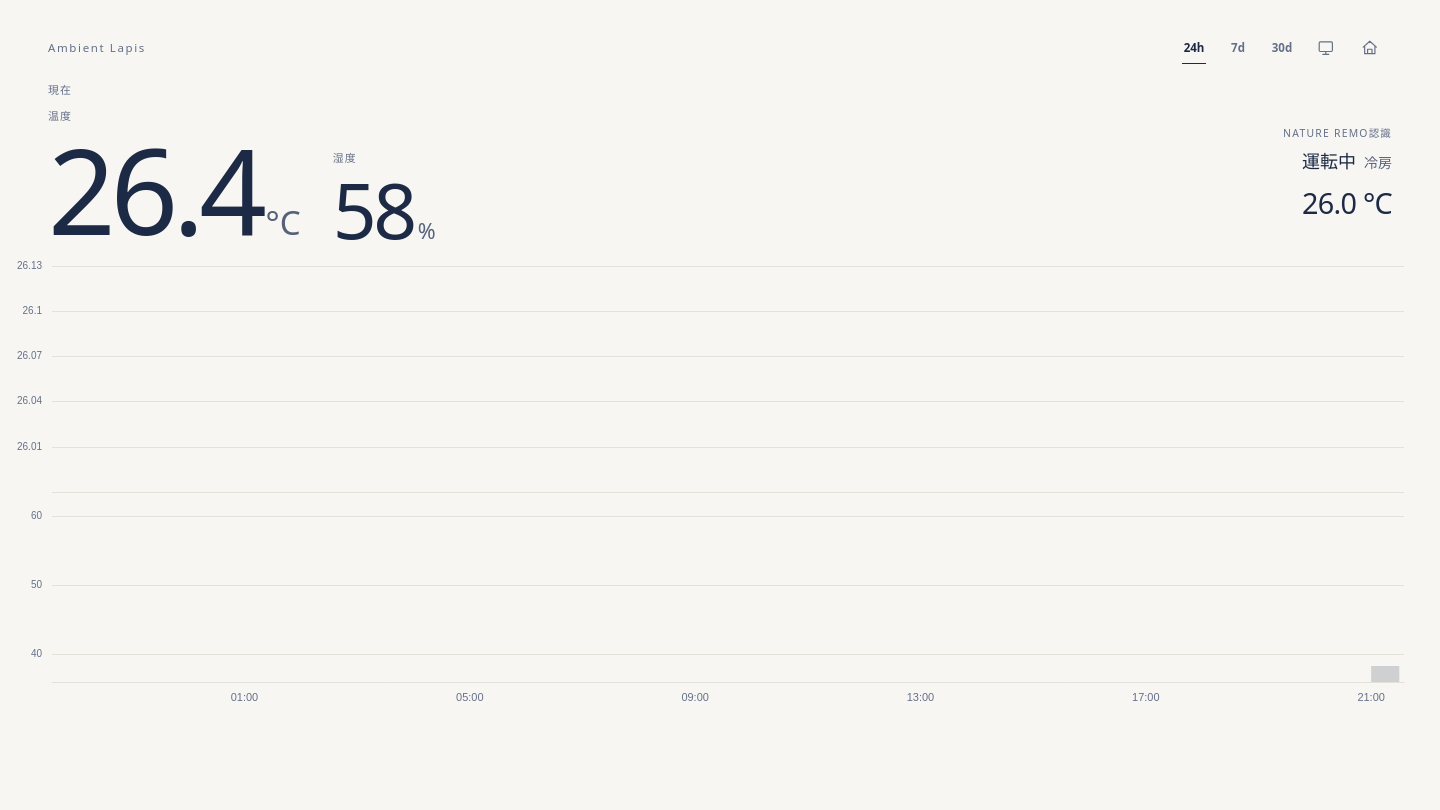
Test: Simple › selects a theme with Enter and returns focus
Click the button with test id "simple-theme-trigger" at (1326, 48), box 1304,26 -> 1348,70
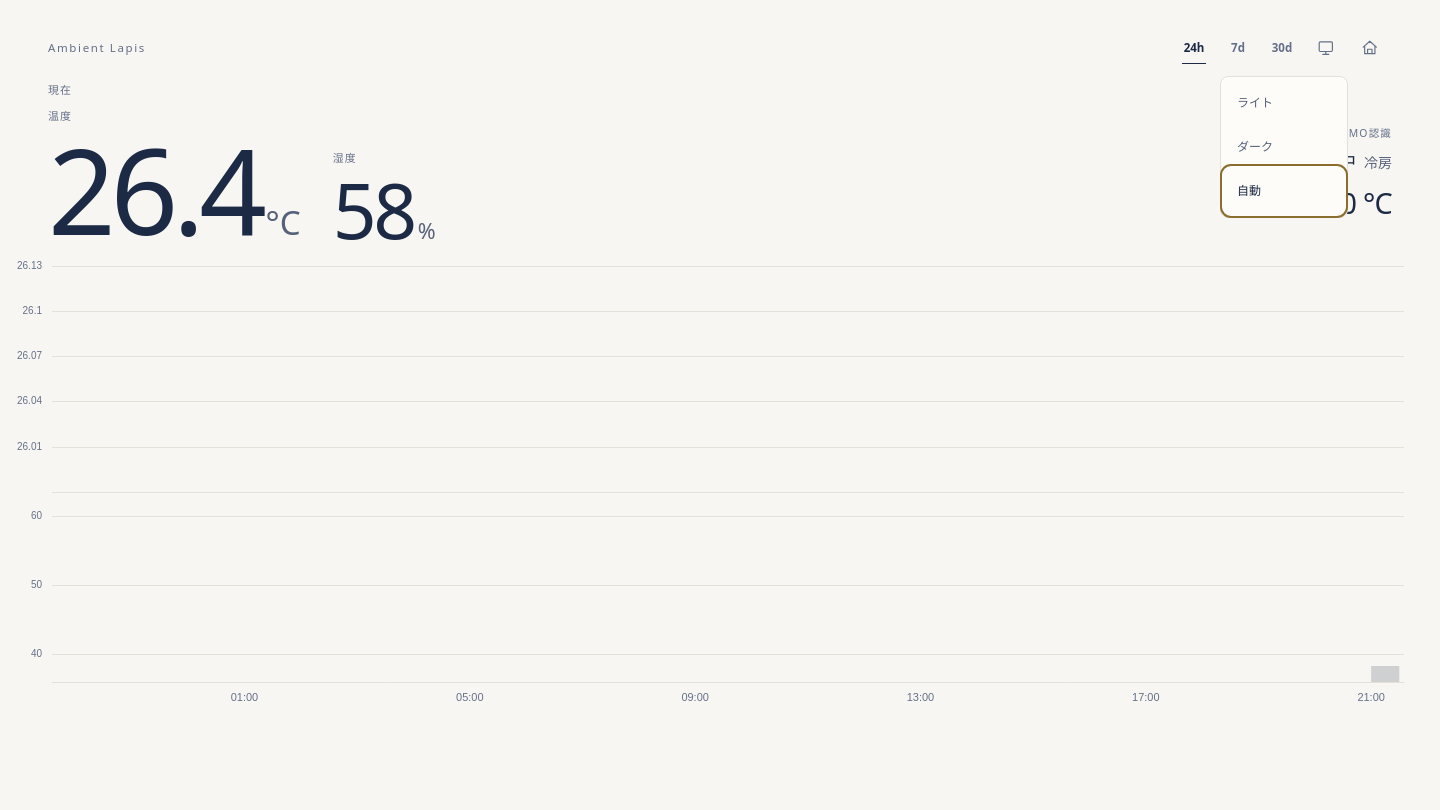
Press Enter in the menu item "ダーク", box 1225,125 -> 1343,169
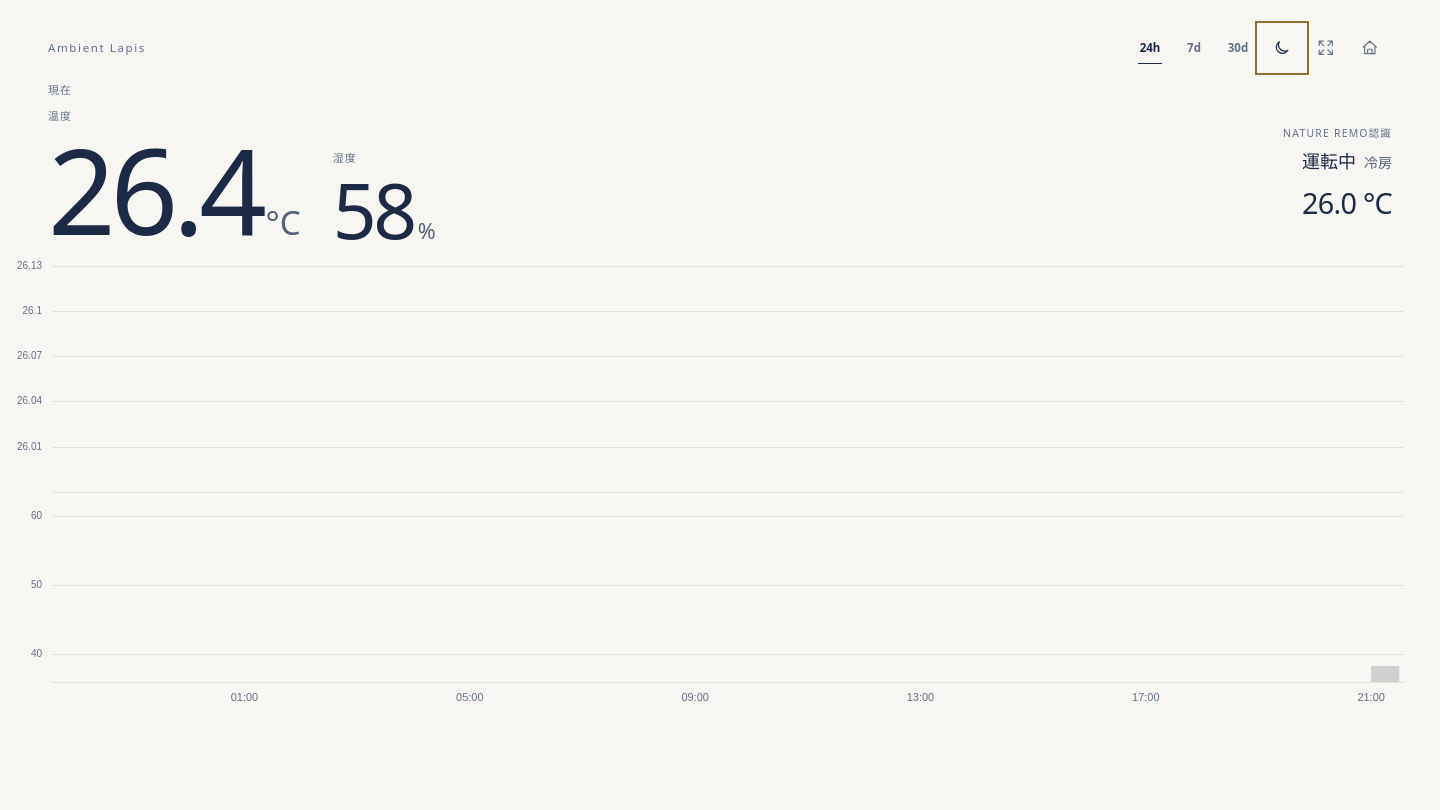
Check: the menu with test id "simple-theme-menu" is gone
